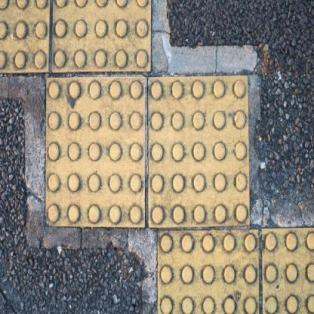Podoctatil: (0, 2, 311, 311)
